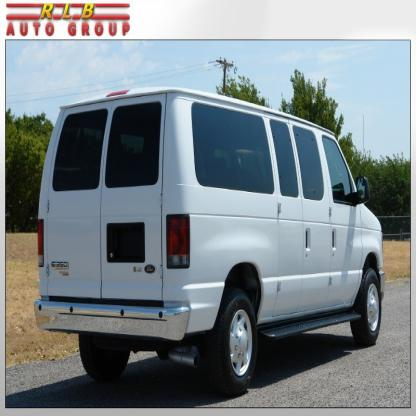car: (36, 93, 384, 392)
